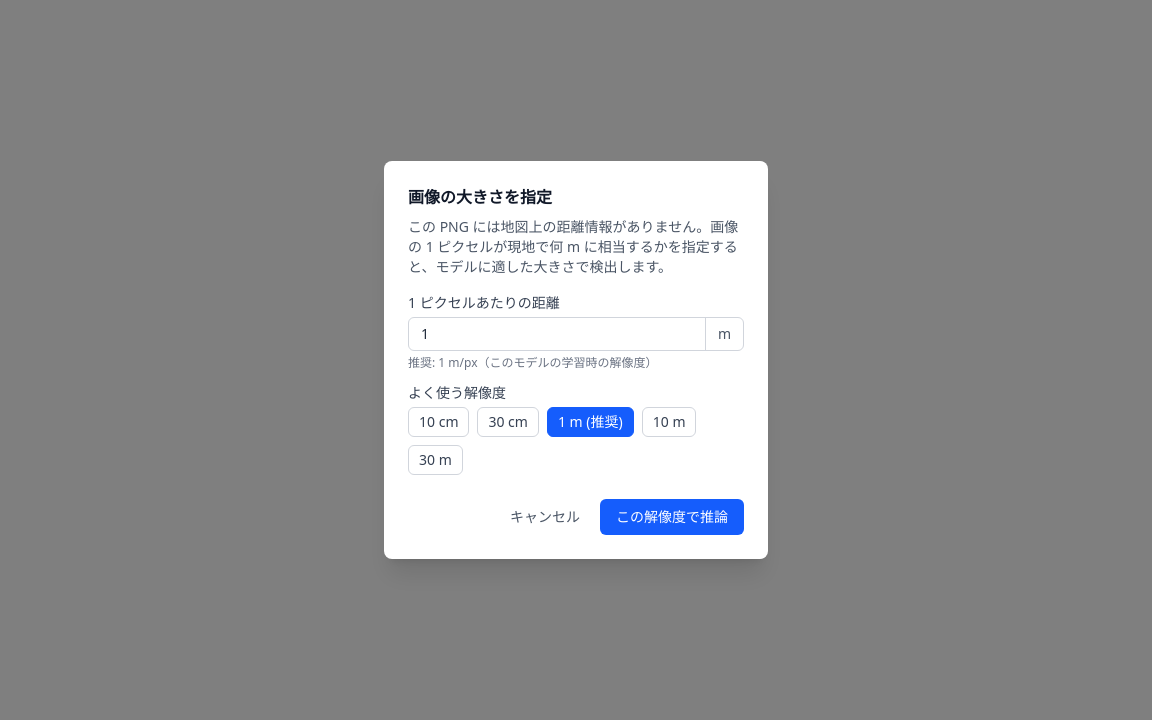
Scenario: GSDDialog › updates the resolution input when a suggested value is selected
The width and height of the screenshot is (1152, 720).
Step 1. Click the button "30 cm" → {"x": 508, "y": 422}, box [478,407,539,437]
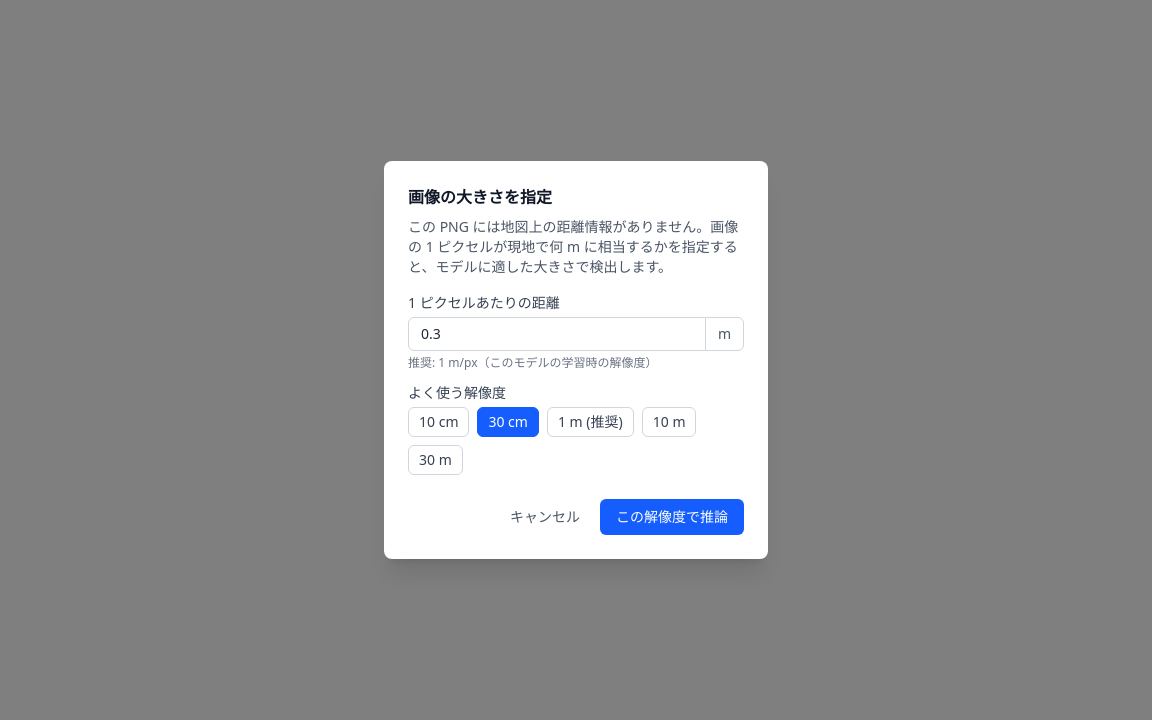
expect the number field labelled "1 ピクセルあたりの距離" holds "0.3": met, box [409,318,705,350]
